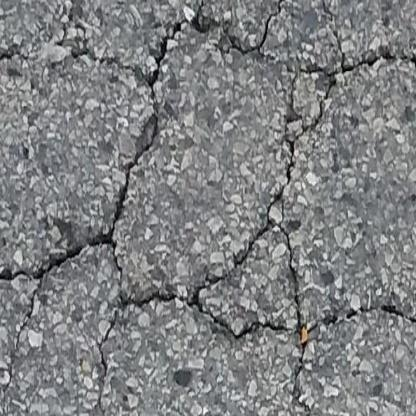Cracks: (0, 0, 416, 416), (319, 0, 346, 57), (0, 43, 41, 72)
